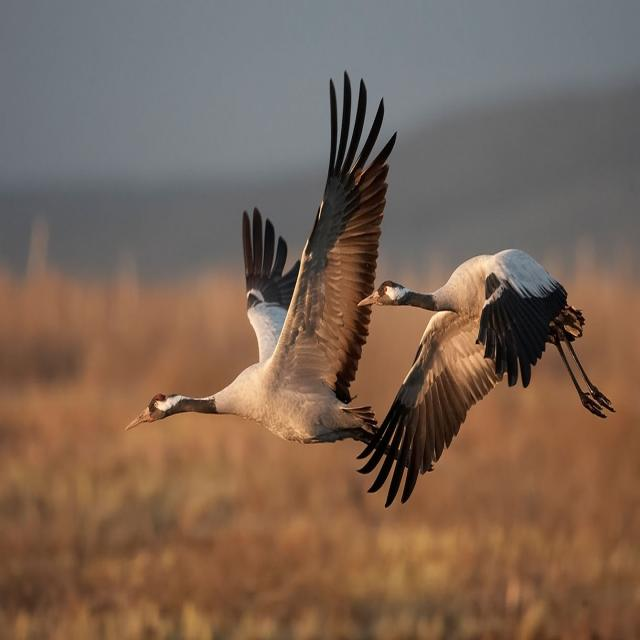bird: (123, 60, 392, 475), (376, 239, 616, 515)
